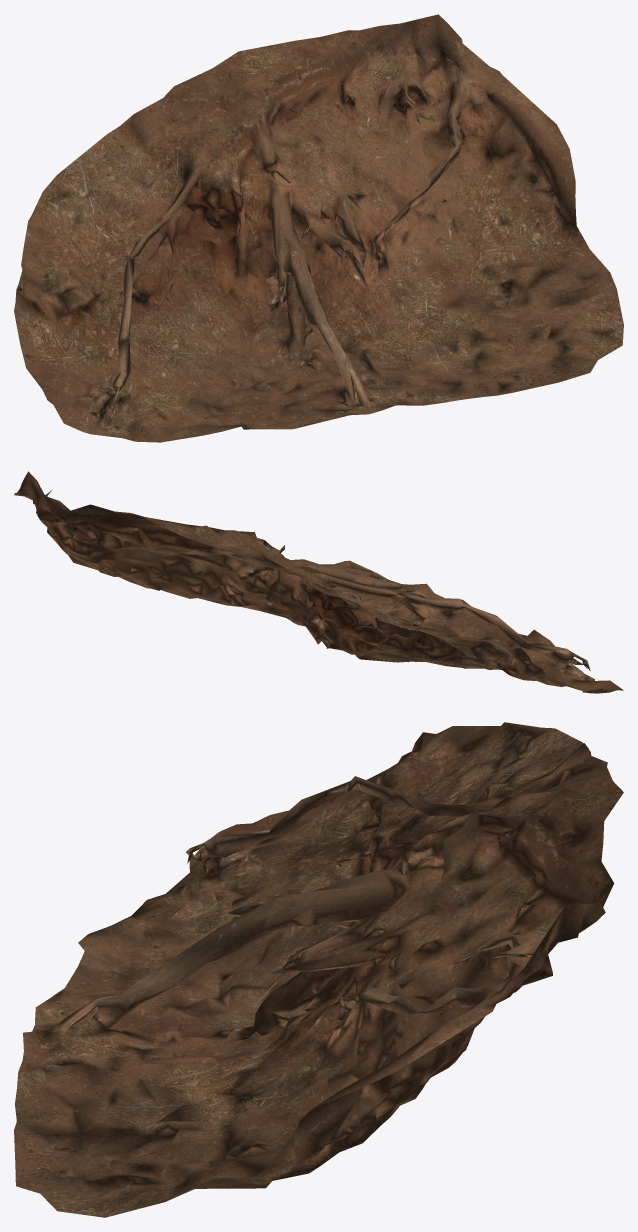
Rendered from root_cluster_01.glb.
3 views of the same model, one above another, from view 1: azimuth 30°, elevation 25°; view 2: azimuth 150°, elevation 25°; view 3: azimuth 270°, elevation 25° (orthographic). The views are drawn at different scales.
Visible parts, largest first — view 1: root_cluster_01_lod0; view 2: root_cluster_01_lod0; view 3: root_cluster_01_lod0.
Boxes of the visible parts, x1,y1,x2,y2 form: root_cluster_01_lod0: [14, 14, 623, 442]; root_cluster_01_lod0: [14, 471, 623, 693]; root_cluster_01_lod0: [14, 722, 623, 1217].
Size of what is drawn, in the model's own units: 4.12 by 1.51 by 2.68.
1 material, 1 textured.
